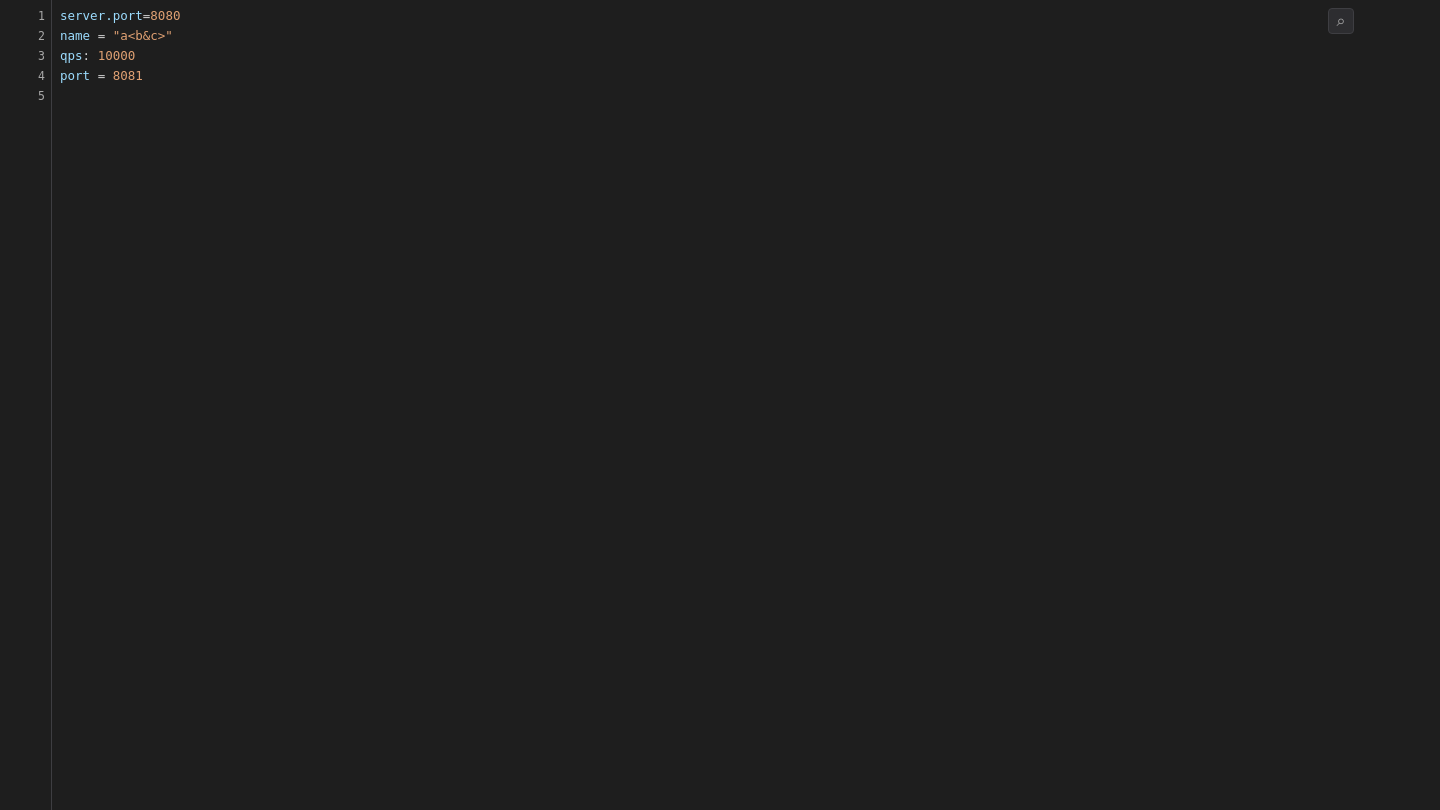
Test: 浏览态 CodeView 的查找栏交代快捷键 › 输入有命中后让位给计数，提示不长期占着栏目
The width and height of the screenshot is (1440, 810).
Press f
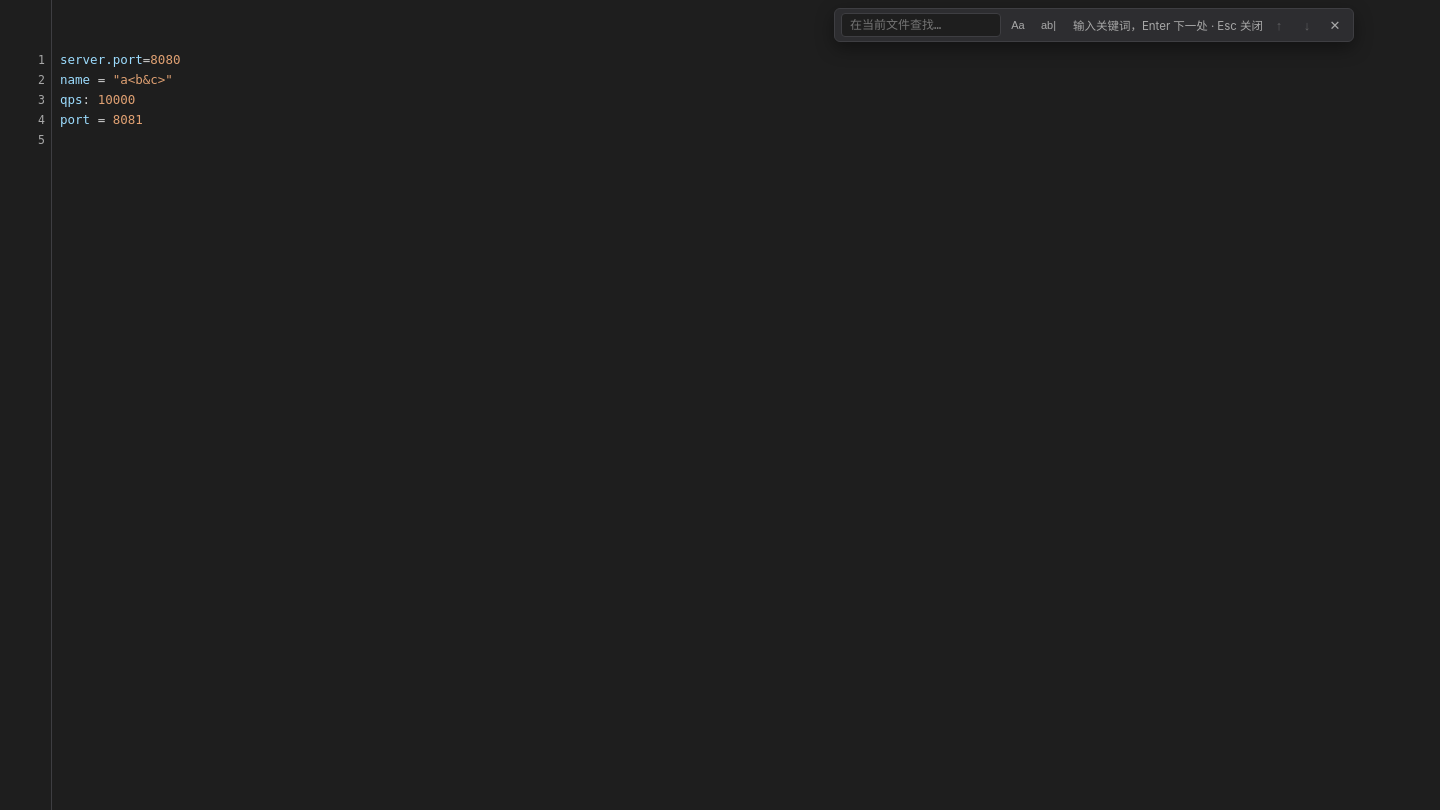
Type "port" into the field with class "code-find-input" at (921,25), box [841, 13, 1001, 37]
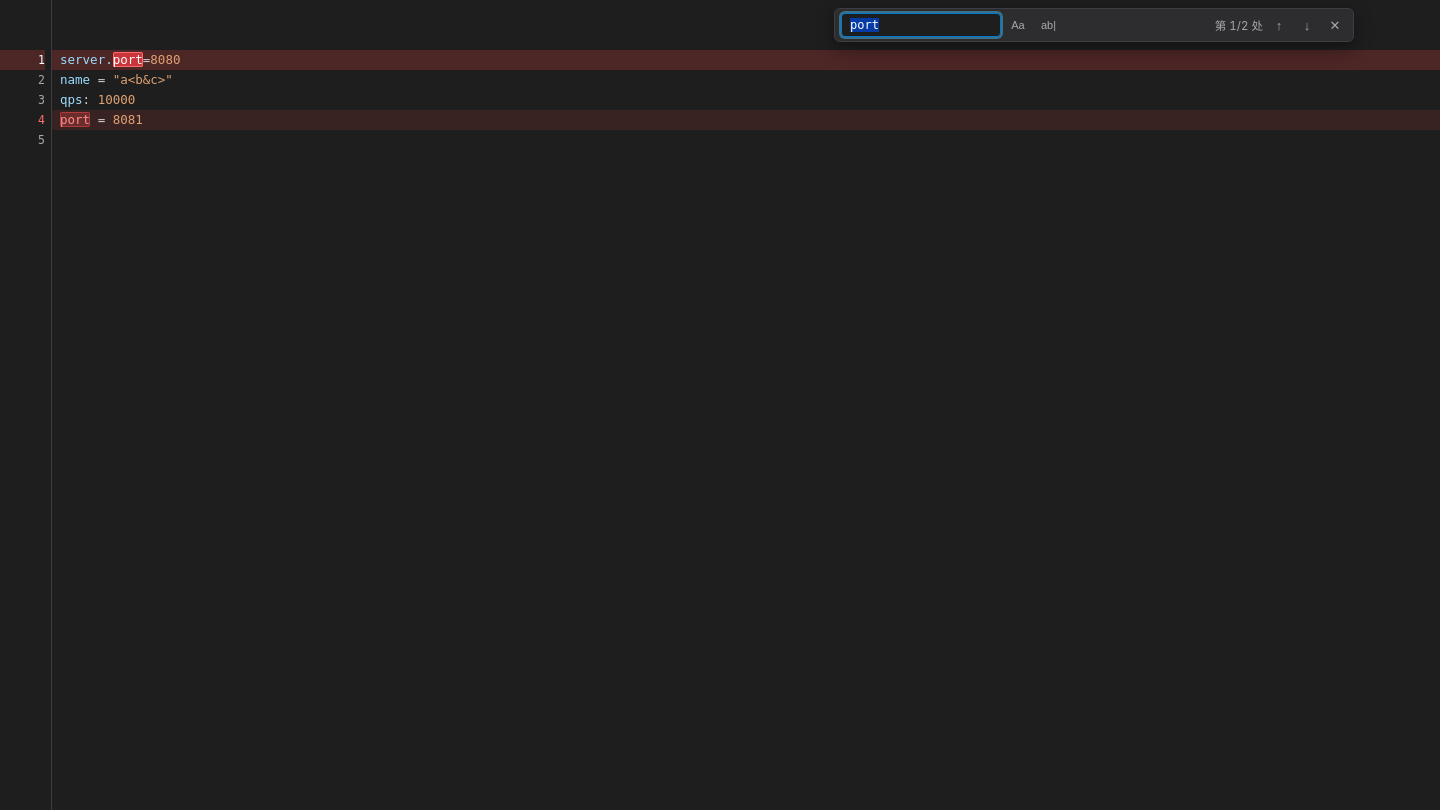
Check: the text with class "code-find-count" reads "第 1/2 处", box [1215, 19, 1263, 33]
Check: the text with class "code-find-count" no longer shows "Enter"
